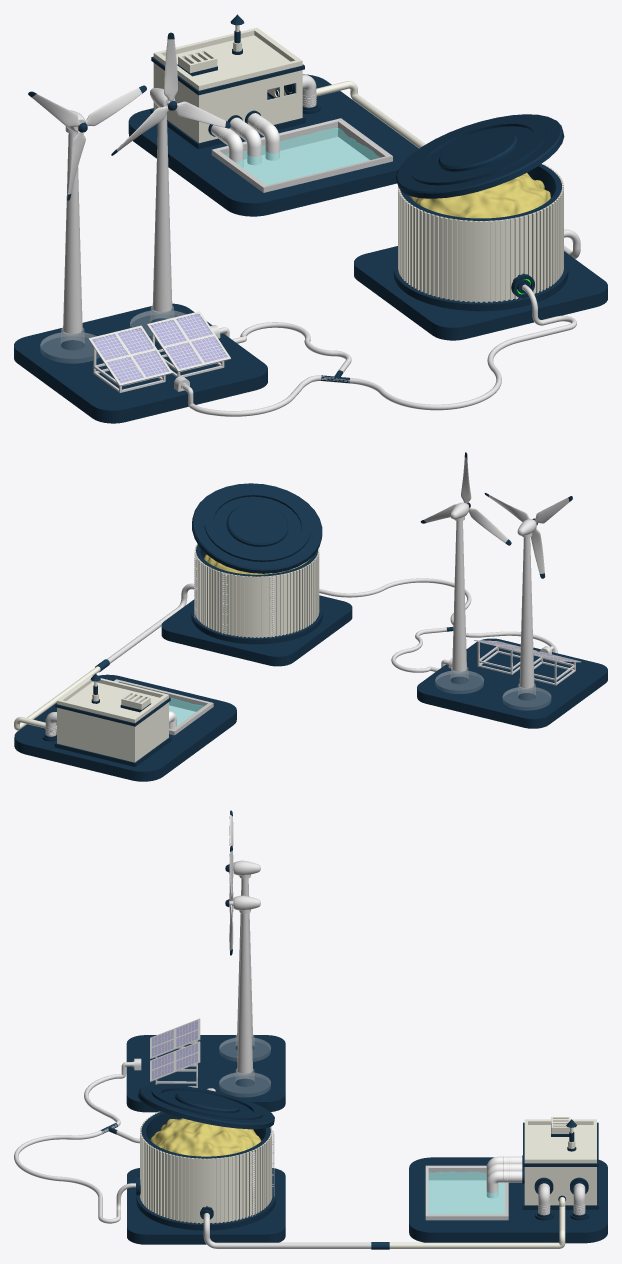
The model's file is BARA3-COMP.glb.
The picture shows the model from 3 angles, top to bottom: view 1: azimuth 30°, elevation 25°; view 2: azimuth 150°, elevation 25°; view 3: azimuth 270°, elevation 25°; orthographic projection. The views are drawn at different scales.
Parts seen in each view (by area): view 1: Cylinder, Cube.005, Cube.003, Cube.004, Cube, Circle.001, Cube.002, domain, Cylinder.019, Cylinder.020, Cube.001, Cube.012 (+11 smaller); view 2: Cube.005, Circle.001, Cylinder, Cube.003, Cube.004, Cube, Cylinder.019, Cylinder.020, Cube.002, Cube.011, Cube.009, Cylinder.009 (+7 smaller); view 3: Cylinder, Cube.004, Cube.005, Cube.003, Cube, Cube.002, Circle.001, Cylinder.020, Cube.001, domain, Cylinder.009, Cylinder.004 (+6 smaller).
Boxes of the visible parts, bbox=[...] form: Cylinder: bbox=[398, 163, 563, 302]; Cube.005: bbox=[14, 303, 267, 423]; Cube.003: bbox=[150, 14, 305, 149]; Cube.004: bbox=[128, 74, 418, 216]; Cube: bbox=[354, 246, 607, 340]; Circle.001: bbox=[396, 114, 564, 198]; Cube.002: bbox=[211, 118, 392, 192]; domain: bbox=[225, 128, 379, 184]; Cylinder.019: bbox=[40, 133, 99, 363]; Cylinder.020: bbox=[130, 113, 185, 340]; Cube.001: bbox=[409, 173, 550, 218]; Cube.012: bbox=[88, 325, 172, 386]; Cube.005: bbox=[417, 638, 607, 728]; Circle.001: bbox=[192, 483, 322, 573]; Cylinder: bbox=[194, 543, 319, 637]; Cube.003: bbox=[54, 673, 171, 766]; Cube.004: bbox=[14, 674, 236, 781]; Cube: bbox=[161, 595, 352, 666]; Cylinder.019: bbox=[503, 537, 550, 710]; Cylinder.020: bbox=[435, 521, 483, 693]; Cube.002: bbox=[114, 679, 213, 735]; Cube.011: bbox=[484, 493, 572, 578]; Cube.009: bbox=[420, 452, 511, 545]; Cylinder.009: bbox=[14, 659, 109, 730]; Cylinder: bbox=[140, 1111, 272, 1223]; Cube.004: bbox=[409, 1157, 607, 1243]; Cube.005: bbox=[126, 1035, 285, 1112]; Cube.003: bbox=[522, 1117, 598, 1209]; Cube: bbox=[127, 1168, 285, 1244]; Cube.002: bbox=[425, 1165, 508, 1220]; Circle.001: bbox=[138, 1084, 274, 1129]; Cylinder.020: bbox=[219, 913, 270, 1096]; Cube.001: bbox=[150, 1118, 261, 1156]; domain: bbox=[429, 1172, 504, 1213]; Cylinder.009: bbox=[371, 1197, 565, 1249]; Cylinder.004: bbox=[14, 1130, 135, 1223].
Size of what is drawn, in the model's own units: 7.5 by 4.2 by 9.
